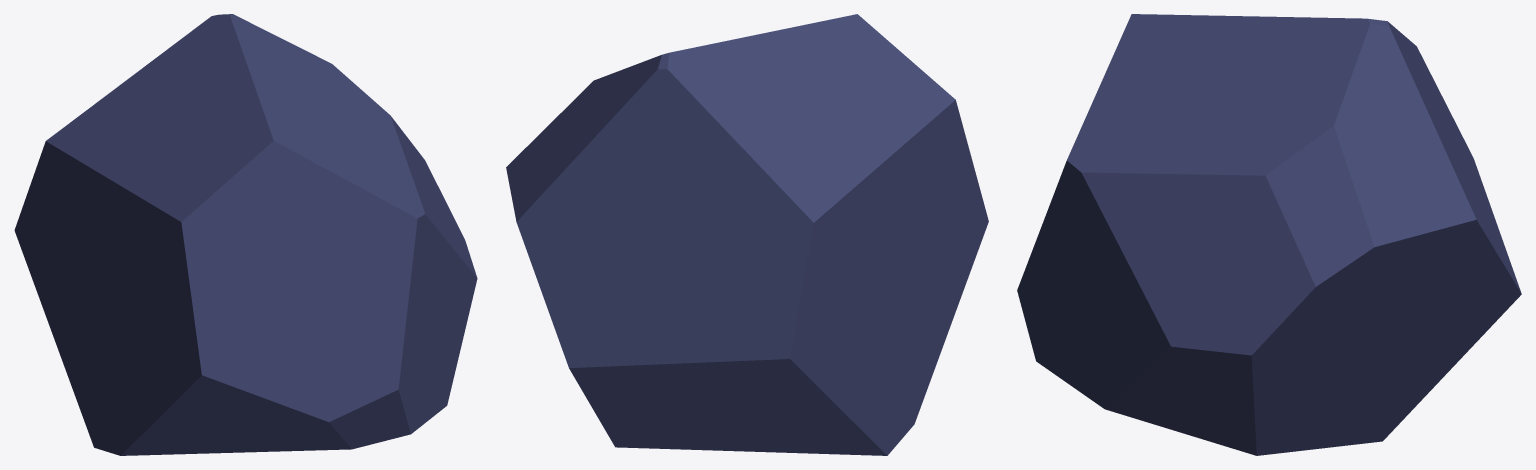
Rendered from StoneMediumSmall1.fbx.
3 views of the same model, side by side, from view 1: azimuth 30°, elevation 25°; view 2: azimuth 150°, elevation 25°; view 3: azimuth 270°, elevation 25° (orthographic). The views are drawn at different scales.
Visible parts, largest first — view 1: StoneMediumSmall1; view 2: StoneMediumSmall1; view 3: StoneMediumSmall1.
Part boxes in pixels (box(x1,y1,x2,y2)): StoneMediumSmall1: box(14, 14, 477, 455); StoneMediumSmall1: box(506, 14, 988, 455); StoneMediumSmall1: box(1017, 14, 1521, 455).
Bounding box in the file's own units: 187 × 192 × 219.
1 material, 1 textured.
